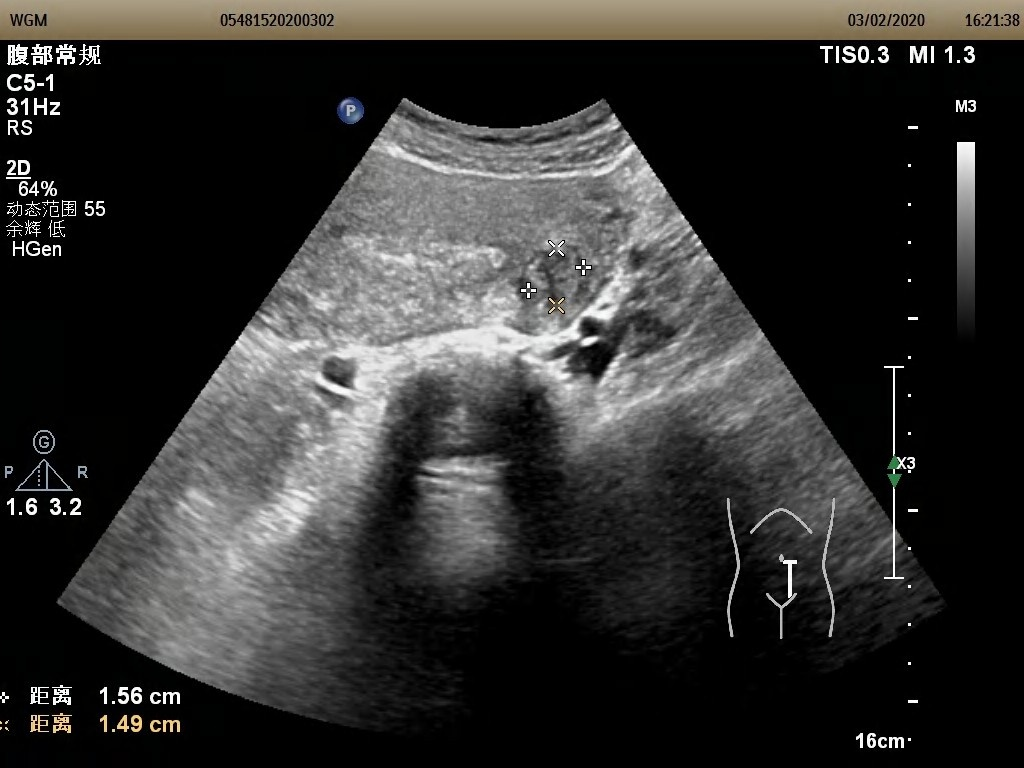肌瘤: (516, 248, 586, 307)
